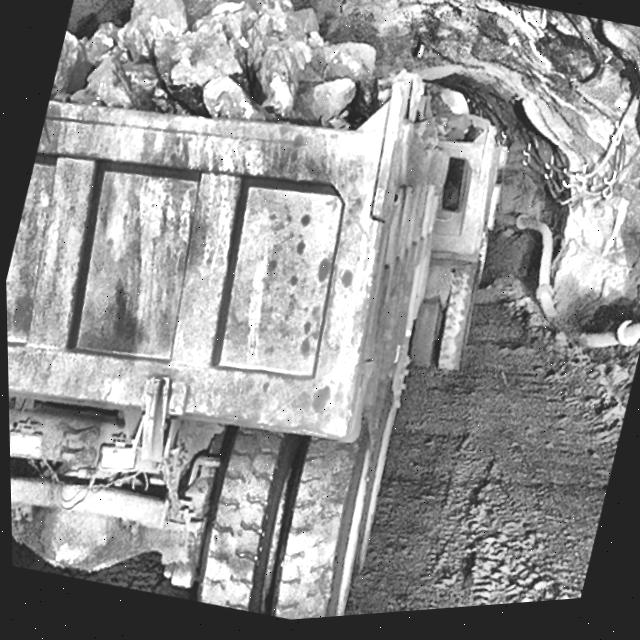dump_truck: (0, 0, 621, 640)
